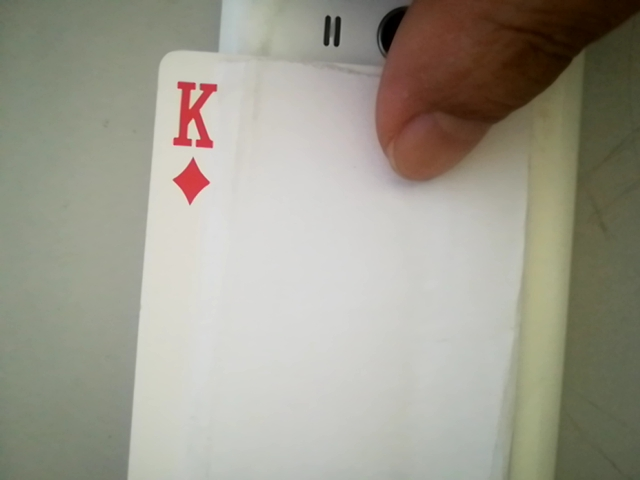fk k: (160, 73, 227, 207)
